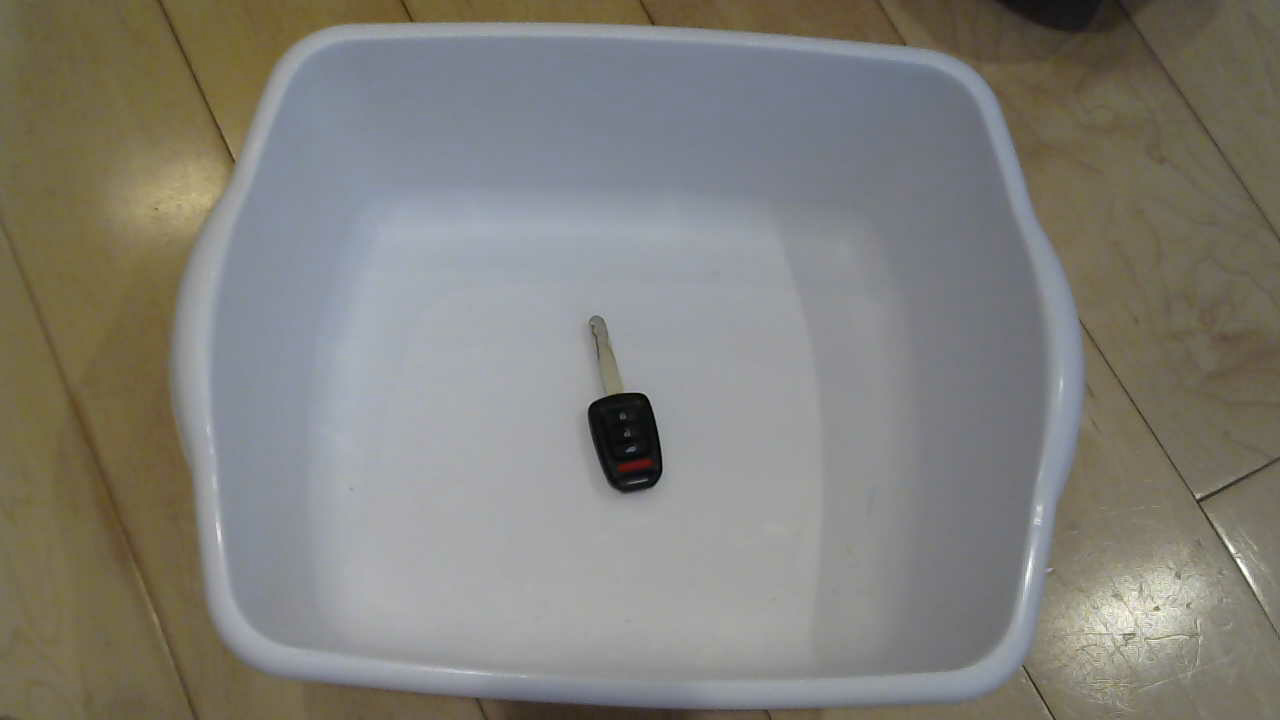key: (540, 313, 694, 505)
